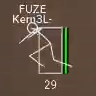hacks_1: (13, 4, 73, 91)
